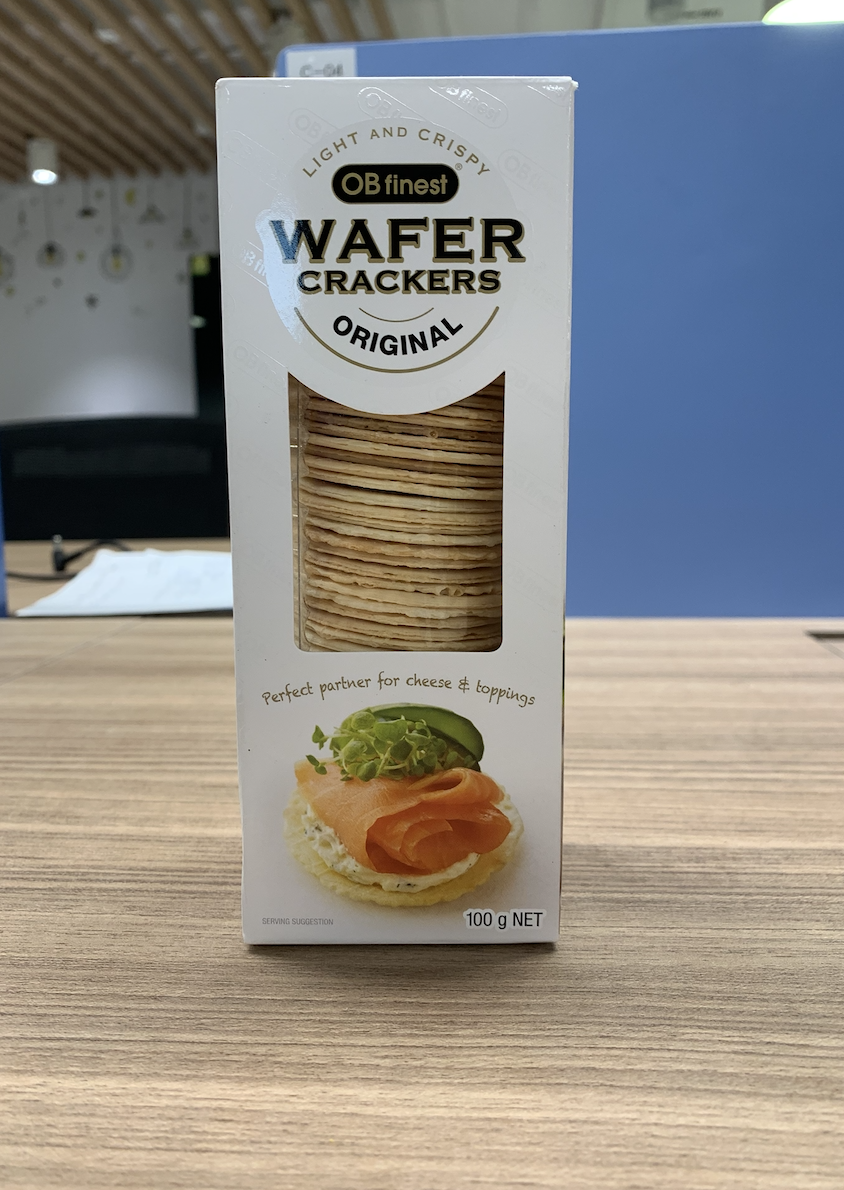crackers_150g: (248, 117, 552, 936)
